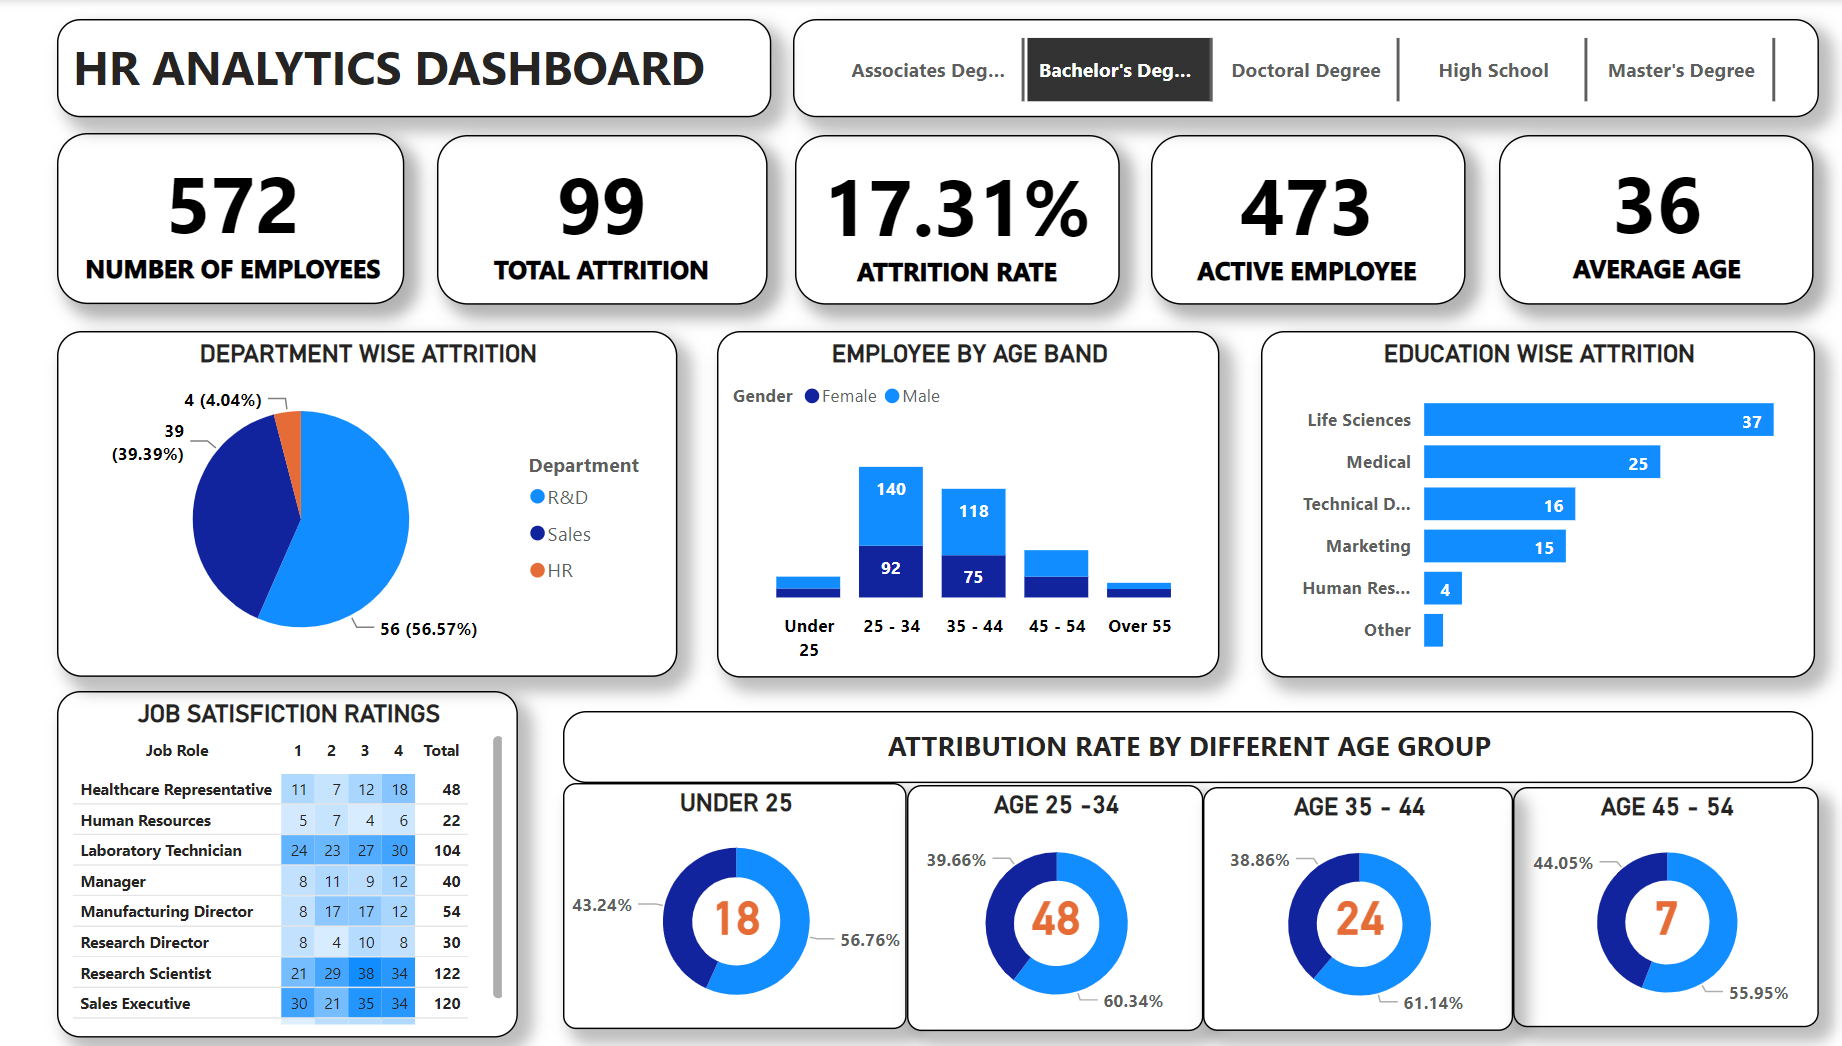

The page's visual inventory and layout, read from the dashboard file:
{"tool":"powerbi","page":{"name":"Page 1","canvas":[1280,720],"ordinal":0},"visuals":[{"type":"shape","box":[41.6,91.4,238.7,117.6],"z":0},{"type":"card","fields":{"Values":["Sum(HR data.Employee Count)"]},"box":[46.3,90.2,230.4,117.6],"z":1000},{"type":"shape","box":[301.6,93.8,226.8,116.4],"z":2000},{"type":"card","fields":{"Values":["Sum(HR data.Attrition column)"]},"box":[299.2,91.4,231.5,116.4],"z":3000},{"type":"shape","box":[547.4,93.8,223.2,116.4],"z":4000},{"type":"card","fields":{"Values":["HR data.ATTRITION RATE"]},"box":[518.9,93.8,280.2,116.4],"z":5000},{"type":"shape","box":[792,93.8,216.1,116.4],"z":6000},{"type":"card","fields":{"Values":["HR data.ACTIVE EMPLOYEE"]},"box":[759.9,91.4,280.2,117.6],"z":7000},{"type":"shape","box":[1031.8,93.8,216.1,116.4],"z":8000},{"type":"card","fields":{"Values":["Avg(HR data.Age)"]},"box":[999.8,90.2,280.2,117.6],"z":9000},{"type":"pieChart","title":"DEPARTMENT WISE ATTRITION","fields":{"Category":["HR data.Department"],"Y":["Sum(HR data.Attrition column)"]},"box":[41.2,228,425.8,237.6],"z":10000},{"type":"columnChart","title":"EMPLOYEE BY AGE BAND","fields":{"Category":["HR data.CF_age band"],"Y":["Sum(HR data.Employee Count)"],"Series":["HR data.Gender"]},"box":[494.2,227.9,345.1,237.9],"z":11000},{"type":"pivotTable","title":"JOB SATISFICTION RATINGS","fields":{"Rows":["HR data.Job Role"],"Columns":["HR data.Job Satisfaction"],"Values":["Sum(HR data.Employee Count)"]},"box":[41.9,475.8,316.6,237.9],"z":12000},{"type":"barChart","title":"EDUCATION WISE ATTRITION ","fields":{"Category":["HR data.Education Field"],"Y":["Sum(HR data.Attrition column)"]},"box":[867.9,227.9,380.3,237.9],"z":13000},{"type":"donutChart","title":"UNDER 25","fields":{"Y":["Sum(HR data.Employee Count)"],"Category":["HR data.Gender"]},"box":[388.7,538.4,236.2,168.9],"z":14000},{"type":"donutChart","title":"AGE 25 -34","fields":{"Y":["Sum(HR data.Employee Count)"],"Category":["HR data.Gender"]},"box":[624.9,539.7,203.3,168.9],"z":15000},{"type":"donutChart","title":"AGE 35 - 44","fields":{"Y":["Sum(HR data.Employee Count)"],"Category":["HR data.Gender"]},"box":[828.2,541.1,212.9,167.6],"z":16000},{"type":"donutChart","title":"AGE 45 - 54","fields":{"Y":["Sum(HR data.Employee Count)"],"Category":["HR data.Gender"]},"box":[1041.5,541.4,209.9,165.2],"z":17000},{"type":"textbox","box":[388.7,488.9,858.4,49.4],"z":18000},{"type":"card","fields":{"Values":["Sum(HR data.Attrition column)"]},"box":[467,594.7,81,68.7],"z":19000},{"type":"card","fields":{"Values":["Sum(HR data.Attrition column)"]},"box":[686.7,594.7,81,68.7],"z":20000},{"type":"card","fields":{"Values":["Sum(HR data.Attrition column)"]},"box":[895.5,594.7,81,68.7],"z":21000},{"type":"card","fields":{"Values":["Sum(HR data.Attrition column)"]},"box":[1105.6,594.7,81,68.7],"z":22000},{"type":"textbox","box":[41.2,13.7,490.3,67.3],"z":23000},{"type":"slicer","fields":{"Values":["HR data.Education"]},"box":[546.6,13.7,704.5,67.3],"z":24000}]}

Visuals, with their boxes in screenshot pixels (x1, y1, x2, y2), scaled from the page's 1280x720 canvas onto the 1842x1046 screenshot:
shape: Rect(60, 133, 403, 304)
card - Sum(HR data.Employee Count): Rect(67, 131, 398, 302)
shape: Rect(434, 136, 760, 305)
card - Sum(HR data.Attrition column): Rect(431, 133, 764, 302)
shape: Rect(788, 136, 1109, 305)
card - HR data.ATTRITION RATE: Rect(747, 136, 1150, 305)
shape: Rect(1140, 136, 1451, 305)
card - HR data.ACTIVE EMPLOYEE: Rect(1094, 133, 1497, 304)
shape: Rect(1485, 136, 1796, 305)
card - Avg(HR data.Age): Rect(1439, 131, 1841, 302)
"DEPARTMENT WISE ATTRITION" pieChart: Rect(59, 331, 672, 676)
"EMPLOYEE BY AGE BAND" columnChart: Rect(711, 331, 1208, 677)
"JOB SATISFICTION RATINGS" pivotTable: Rect(60, 691, 516, 1037)
"EDUCATION WISE ATTRITION " barChart: Rect(1249, 331, 1796, 677)
"UNDER 25" donutChart: Rect(559, 782, 899, 1028)
"AGE 25 -34" donutChart: Rect(899, 784, 1192, 1029)
"AGE 35 - 44" donutChart: Rect(1192, 786, 1498, 1030)
"AGE 45 - 54" donutChart: Rect(1499, 787, 1801, 1027)
textbox: Rect(559, 710, 1795, 782)
card - Sum(HR data.Attrition column): Rect(672, 864, 789, 964)
card - Sum(HR data.Attrition column): Rect(988, 864, 1105, 964)
card - Sum(HR data.Attrition column): Rect(1289, 864, 1405, 964)
card - Sum(HR data.Attrition column): Rect(1591, 864, 1708, 964)
textbox: Rect(59, 20, 765, 118)
slicer - HR data.Education: Rect(787, 20, 1800, 118)
